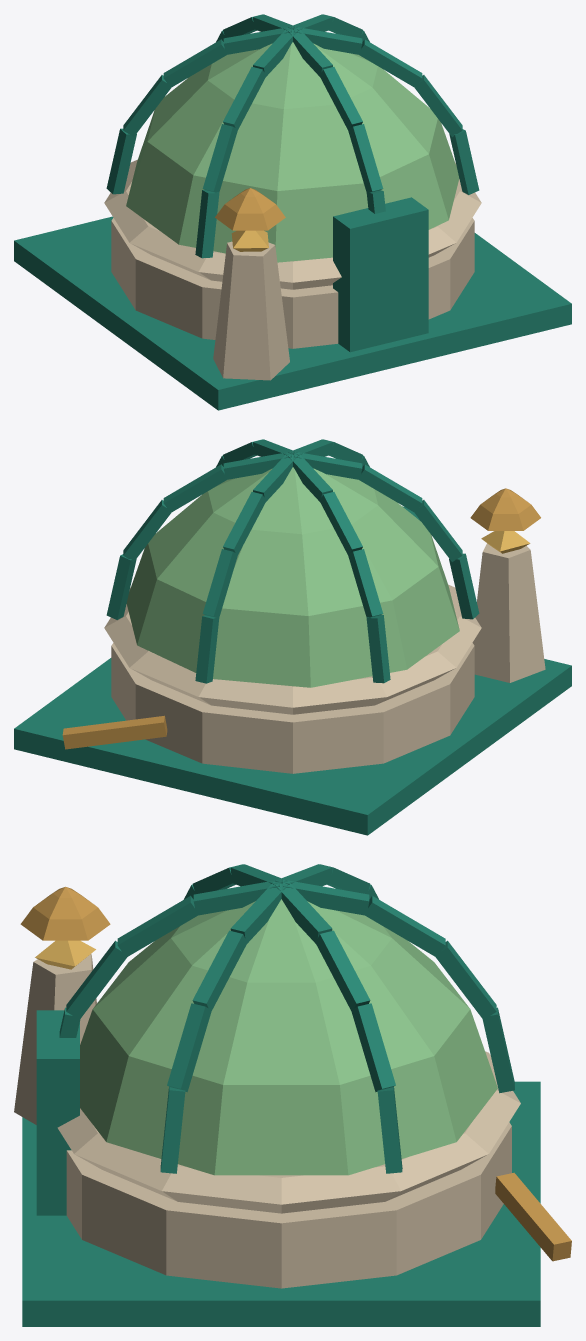
Rendered from greenhouse_bloom.gltf.
The picture shows the model from 3 angles, top to bottom: view 1: azimuth 30°, elevation 25°; view 2: azimuth 150°, elevation 25°; view 3: azimuth 270°, elevation 25°; orthographic projection. The views are drawn at different scales.
Visible parts, largest first — view 1: dome, floor, wall, door, lamp; view 2: dome, floor, wall, lamp, pipe; view 3: dome, floor, wall, lamp, door, pipe.
Part boxes in pixels (<box>): dome: <box>104,14,481,289</box>; floor: <box>14,216,571,410</box>; wall: <box>111,218,474,348</box>; door: <box>333,197,428,352</box>; lamp: <box>213,188,289,380</box>; dome: <box>104,439,481,714</box>; floor: <box>14,658,571,835</box>; wall: <box>111,643,474,773</box>; lamp: <box>470,488,545,682</box>; pipe: <box>62,715,167,749</box>; dome: <box>57,864,520,1213</box>; floor: <box>22,1081,540,1326</box>; wall: <box>66,1122,511,1288</box>; lamp: <box>14,886,110,1124</box>; door: <box>36,1010,79,1215</box>; pipe: <box>495,1172,571,1261</box>.
Size of the model in its own units: 3.6 by 2.56 by 3.88.
